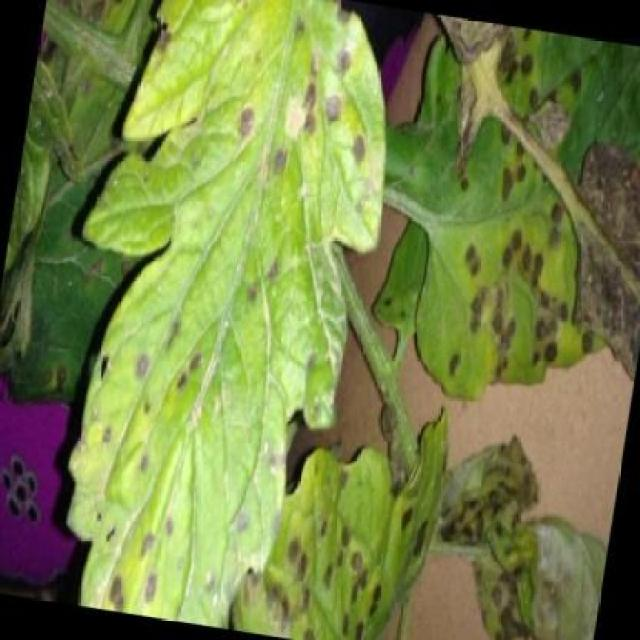Septoria leaf spot: (61, 0, 390, 638), (420, 23, 634, 406), (417, 392, 623, 640), (257, 426, 448, 639)
